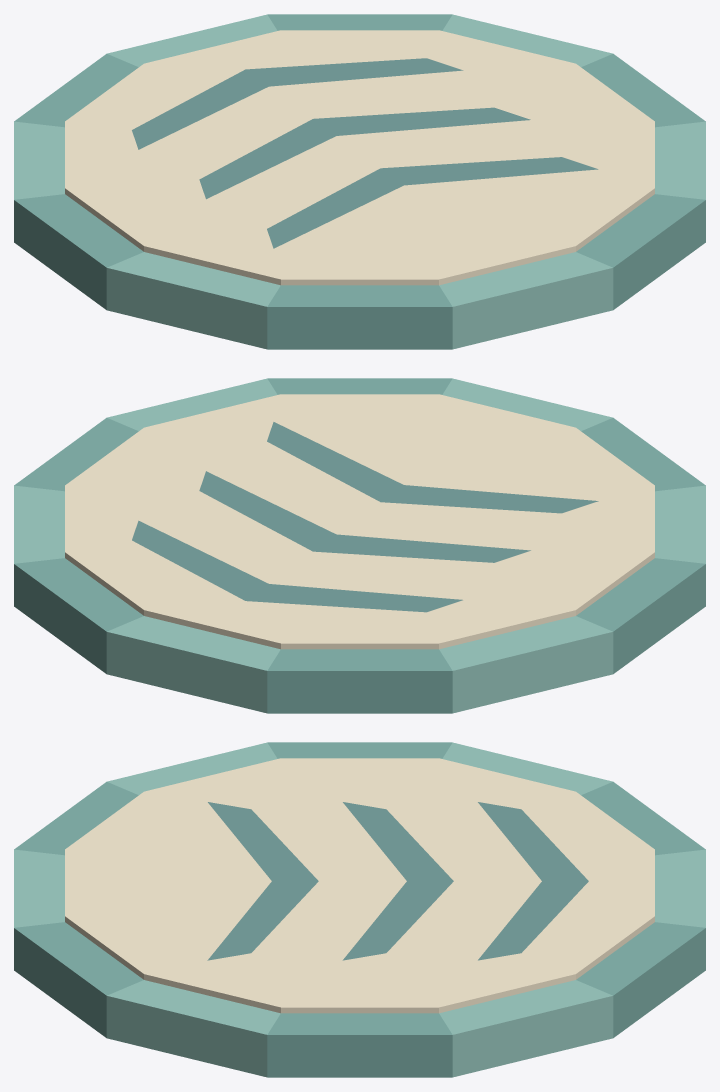
Rendered from WindInlay.glb.
3 views of the same model, one above another, from view 1: azimuth 30°, elevation 25°; view 2: azimuth 150°, elevation 25°; view 3: azimuth 270°, elevation 25° (orthographic).
Visible parts, largest first — view 1: WindInlay; view 2: WindInlay; view 3: WindInlay.
Boxes of the visible parts, x1,y1,x2,y2 form: WindInlay: (14, 14, 705, 349); WindInlay: (14, 378, 705, 713); WindInlay: (14, 742, 705, 1077).
Size of the model in its own units: 1.18 by 0.094 by 1.18.
